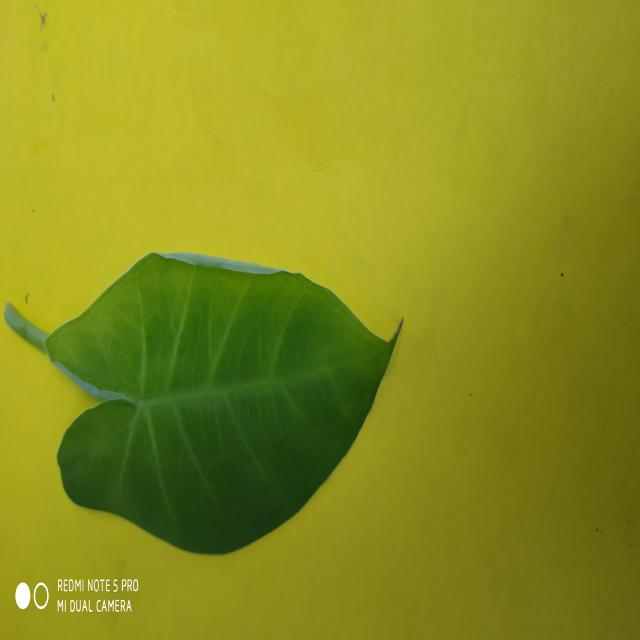defectedtaro: (158, 251, 282, 276)
taro: (5, 253, 400, 553)
